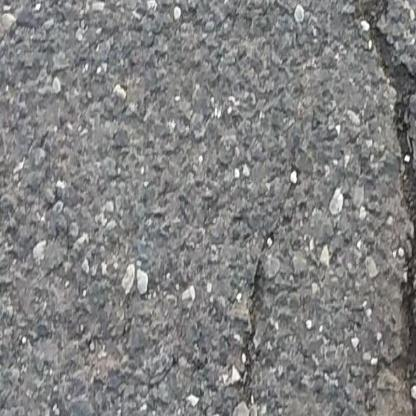Cracks: (349, 0, 416, 416), (239, 226, 277, 410)
